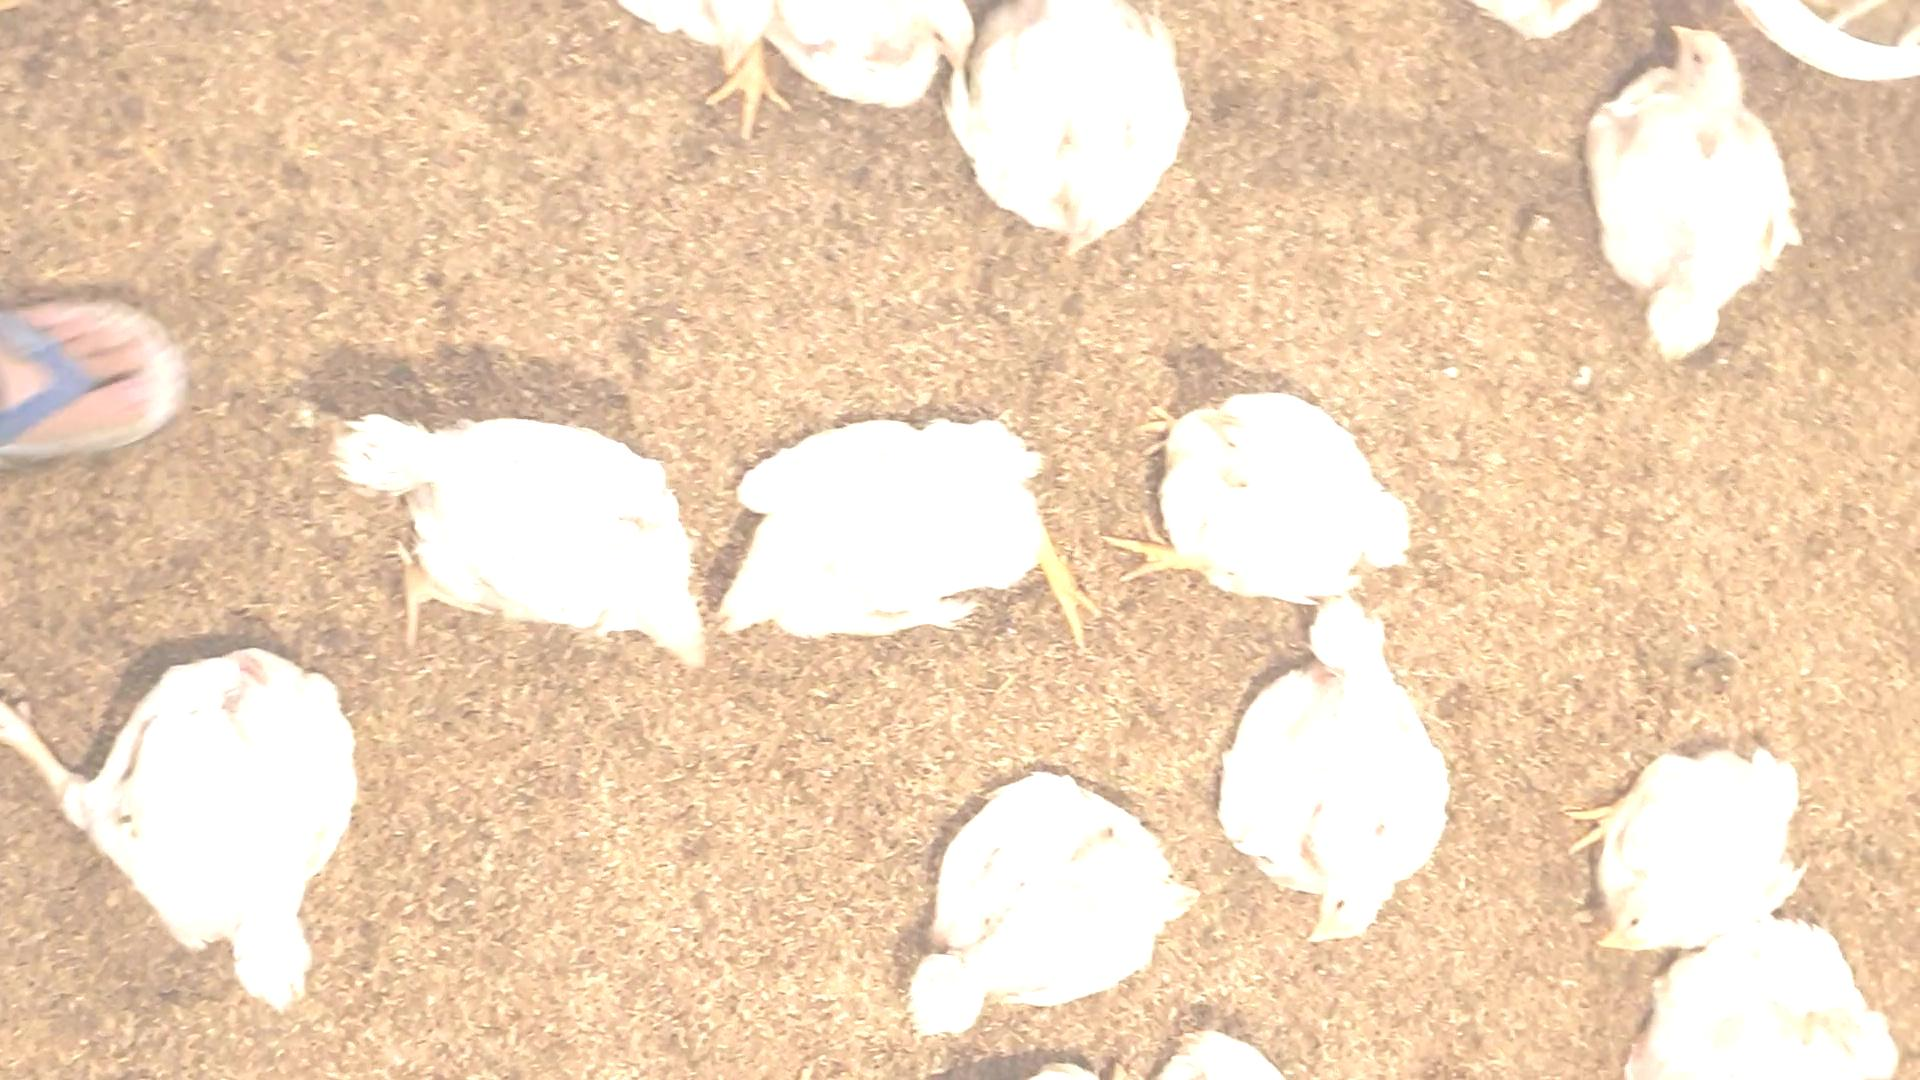Pollos: (339, 410, 705, 670), (1224, 593, 1445, 945), (717, 407, 1036, 647), (88, 647, 349, 935), (924, 765, 1205, 1013), (955, 1, 1189, 255), (1590, 21, 1800, 298), (1156, 382, 1414, 580), (1594, 738, 1800, 961)
